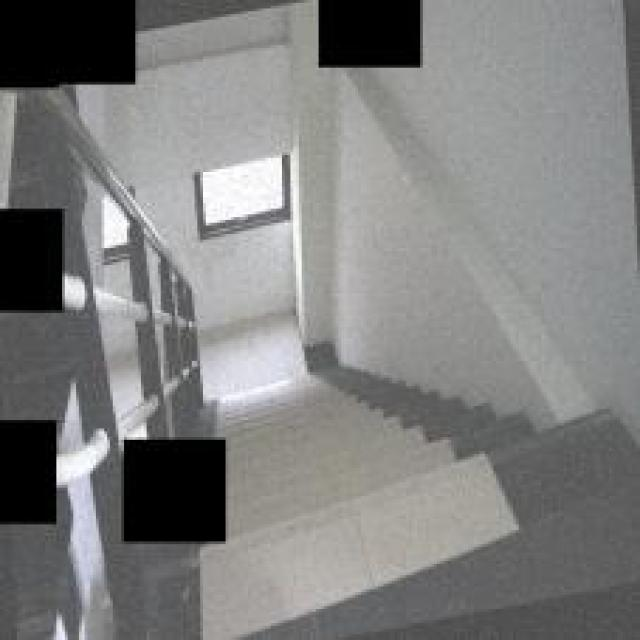downstair: (248, 397, 485, 612)
